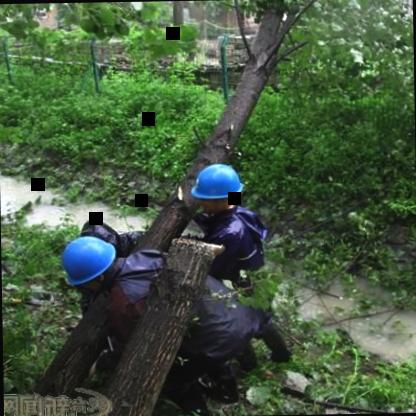helmet: (56, 229, 124, 295), (188, 162, 248, 214)
